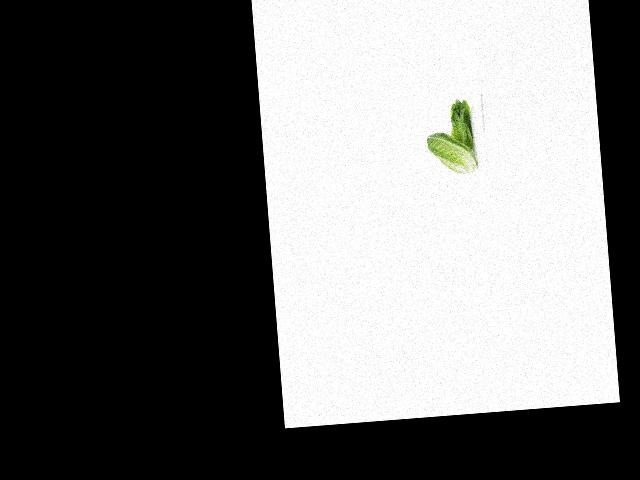lettuce: (443, 98, 480, 151)
